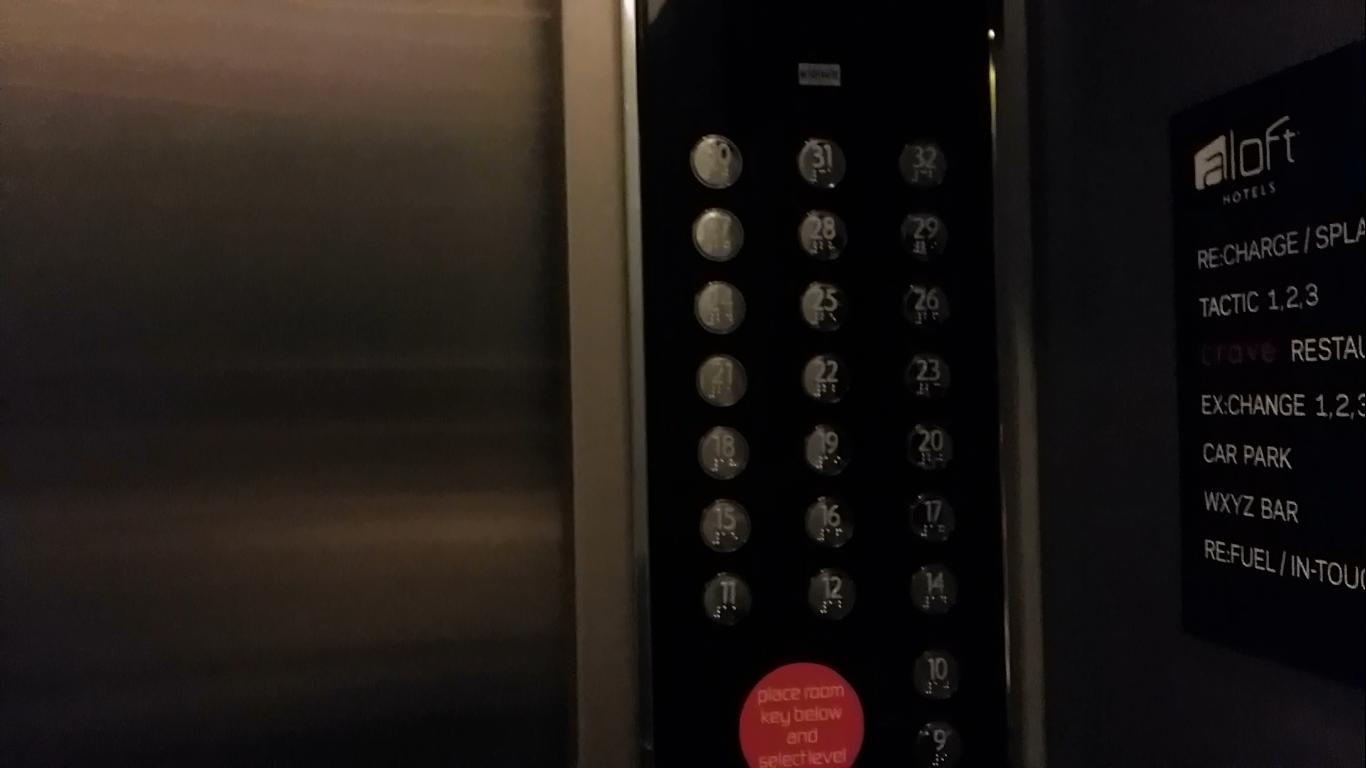10: (909, 649, 961, 701)
11: (702, 575, 752, 625)
12: (808, 568, 857, 619)
14: (906, 562, 958, 617)
15: (699, 500, 751, 551)
16: (805, 494, 852, 547)
17: (906, 493, 955, 543)
18: (696, 425, 751, 479)
19: (804, 423, 854, 474)
20: (908, 424, 953, 471)
21: (696, 356, 749, 407)
22: (799, 351, 848, 402)
23: (901, 350, 951, 398)
25: (798, 281, 849, 331)
26: (900, 282, 952, 331)
28: (797, 208, 847, 259)
29: (892, 209, 953, 264)
31: (795, 136, 848, 190)
32: (897, 136, 948, 188)
9: (911, 718, 965, 768)
blur: (691, 132, 745, 190), (692, 208, 748, 262), (695, 278, 747, 334), (797, 61, 841, 87)
text: (735, 658, 867, 768)
